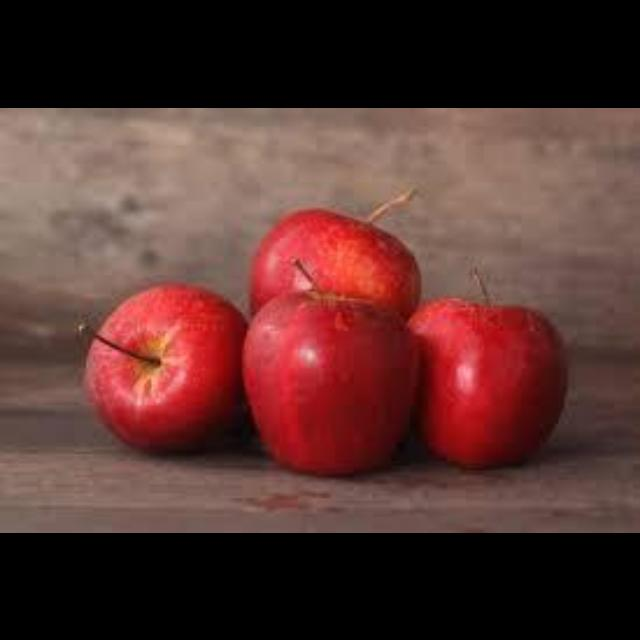apple: (242, 289, 417, 472), (79, 284, 244, 451), (407, 298, 566, 465), (251, 188, 419, 316)
